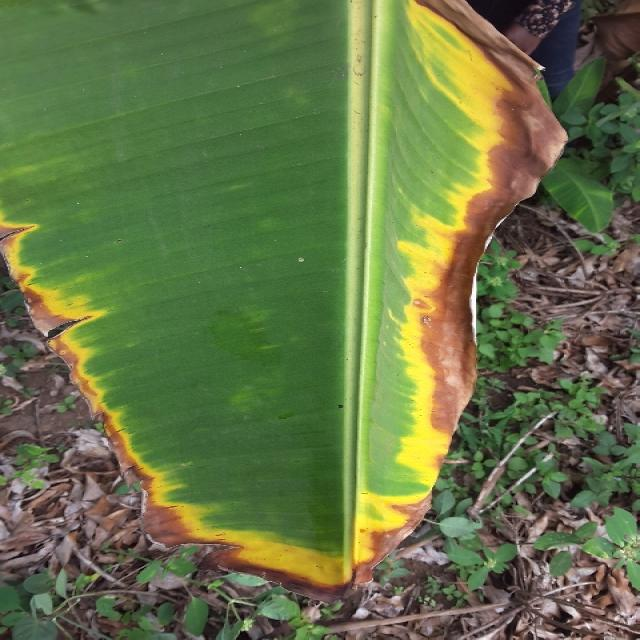Cordana: (0, 174, 365, 603), (350, 0, 549, 579)
